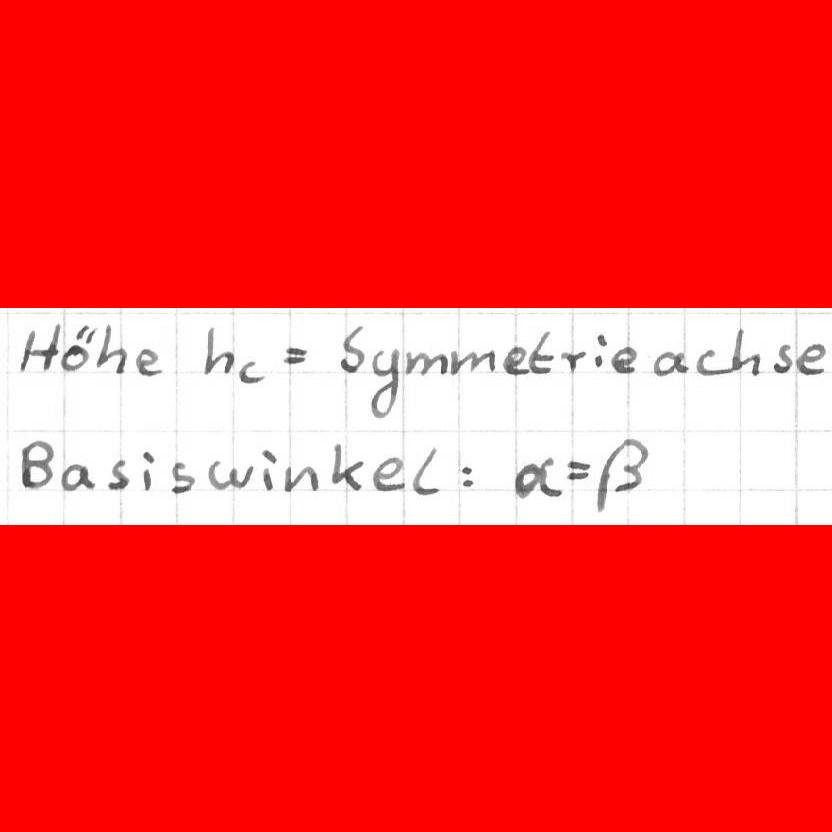Char: (594, 437, 648, 515), (12, 435, 60, 495), (367, 346, 401, 420), (14, 321, 60, 374), (512, 455, 565, 500), (94, 321, 130, 376), (62, 321, 97, 375), (199, 326, 236, 377), (329, 441, 365, 491), (409, 445, 443, 497), (338, 322, 369, 374), (207, 456, 254, 489), (369, 454, 406, 494), (731, 326, 761, 375), (450, 347, 497, 377), (403, 347, 448, 378), (281, 462, 321, 495), (59, 458, 95, 493), (528, 330, 555, 375), (652, 348, 689, 380), (168, 456, 196, 496), (105, 454, 133, 494), (796, 341, 826, 377), (133, 346, 166, 377), (696, 346, 727, 379), (236, 356, 269, 385), (499, 342, 527, 375), (259, 446, 279, 492), (609, 345, 638, 376), (139, 449, 158, 493), (281, 341, 309, 367), (771, 342, 793, 375), (559, 348, 588, 372), (593, 331, 608, 371), (456, 461, 478, 488), (565, 457, 590, 480)
